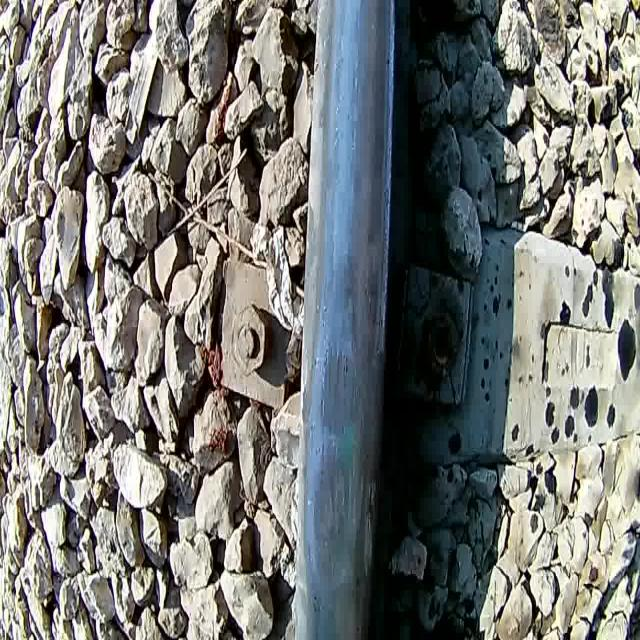Cracks: (359, 471, 388, 547)
Squats: (309, 444, 359, 600), (323, 243, 391, 329), (310, 346, 370, 440)
